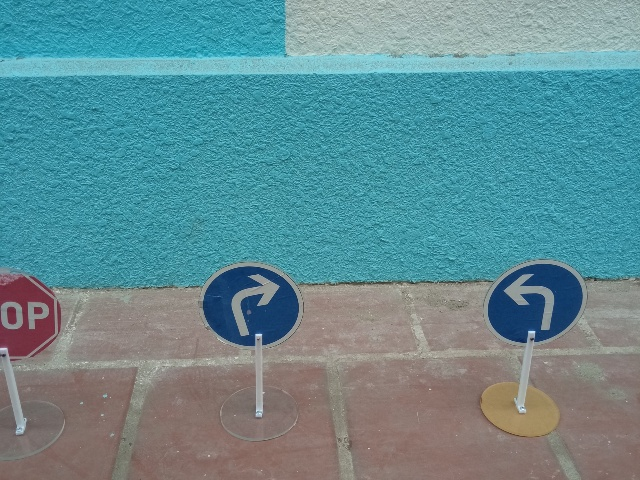Left_Sign: (484, 259, 588, 348)
Right_Sign: (199, 262, 305, 350)
Stop_Sign: (0, 265, 61, 361)
